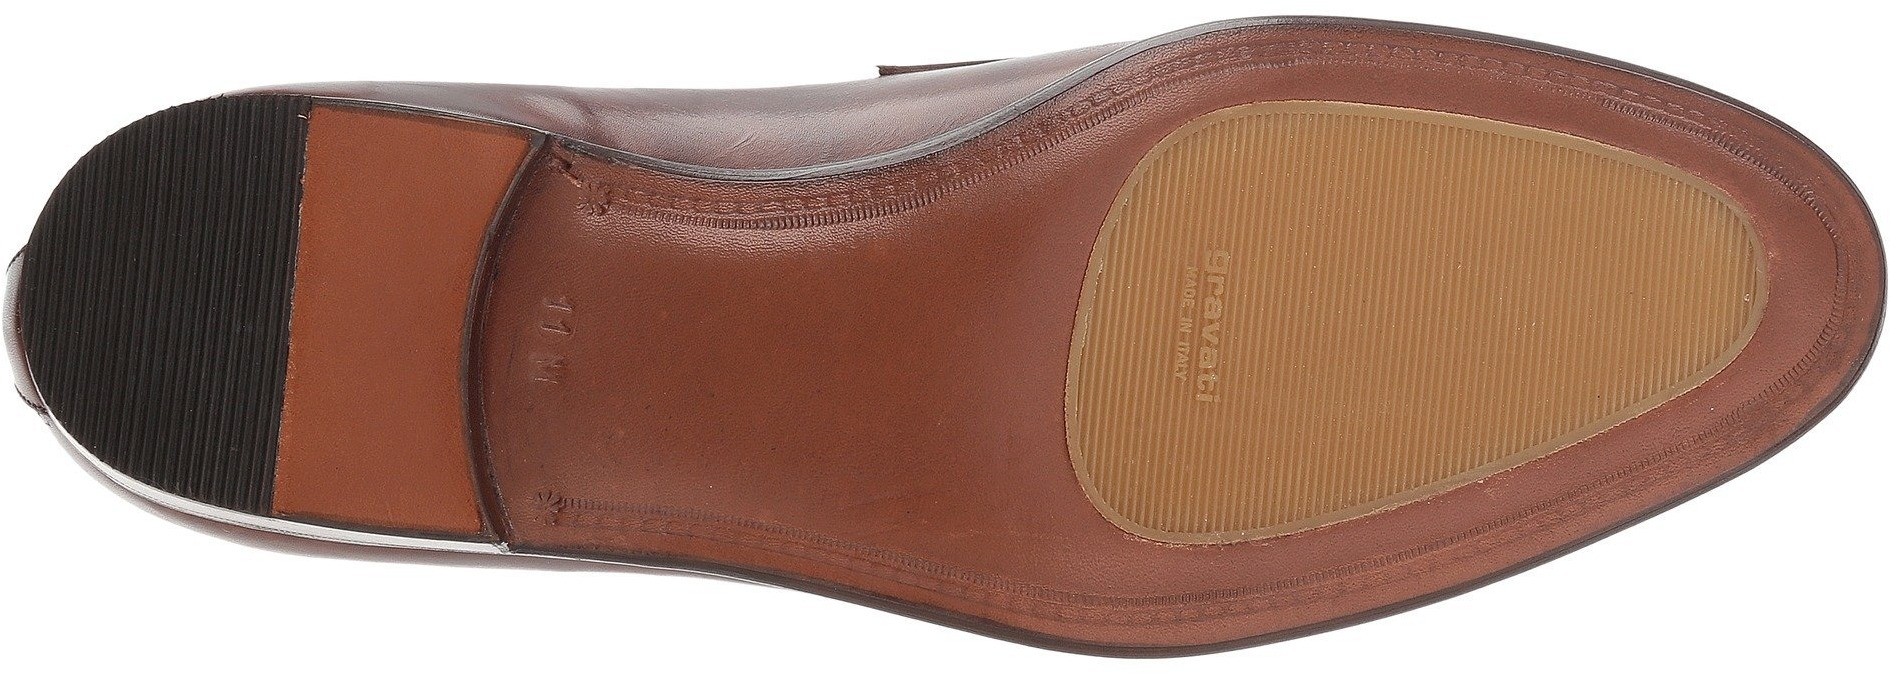other: (740, 238, 1056, 532), (1250, 136, 1532, 440), (61, 188, 282, 403), (1540, 178, 1713, 354), (289, 354, 453, 511), (299, 150, 460, 301)
text: (1154, 320, 1235, 405), (1175, 241, 1246, 317)
